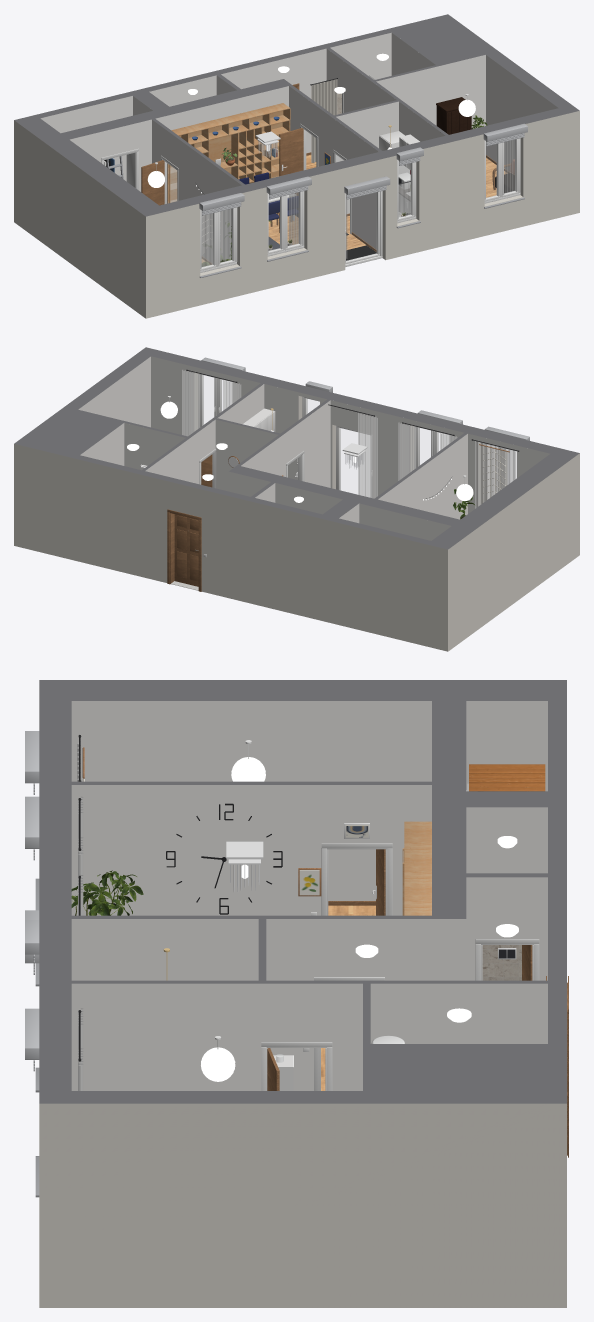
File: flat.glb
3 views of the same model, one above another, from view 1: azimuth 30°, elevation 25°; view 2: azimuth 150°, elevation 25°; view 3: azimuth 270°, elevation 25° (orthographic). The views are drawn at different scales.
Parts seen in each view (by area): view 1: walls_ext, walls_top, walls_study, walls_living, walls_bedroom, wall_unit, walls_hall, walls_bath, walls_kitchen, walls_closet, window_win_bedroom, window_win_living (+17 smaller); view 2: walls_ext, walls_top, walls_living, walls_study, walls_bedroom, walls_hall, walls_bath, walls_kitchen, curtain_bedroom, walls_closet, leaf_door_front, curtain_garden_l (+12 smaller); view 3: walls_ext, walls_top, walls_living, walls_bedroom, walls_study, walls_hall, walls_kitchen, walls_bath, walls_closet, walls_wc, wall_unit, loft_frame (+11 smaller).
Boxes of the visible parts, x1,y1,x2,y2 form: walls_ext: (14,111,579,318); walls_top: (14,14,579,216); walls_study: (376,55,558,171); walls_living: (155,86,378,249); walls_bedroom: (70,119,241,262); wall_unit: (167,103,290,203); walls_hall: (221,48,396,153); walls_bath: (330,32,435,94); walls_kitchen: (336,101,445,213); walls_closet: (40,96,152,181); window_win_bedroom: (199,193,244,277); window_win_living: (266,176,311,261); walls_ext: (14,372,579,651); walls_top: (14,347,579,549); walls_living: (241,400,463,498); walls_study: (78,356,260,435); walls_bedroom: (378,433,549,519); walls_hall: (145,419,277,496); walls_bath: (80,423,185,469); walls_kitchen: (217,384,326,479); curtain_bedroom: (475,441,516,508); walls_closet: (339,503,451,540); leaf_door_front: (174,514,198,586); curtain_garden_l: (358,412,377,498); walls_ext: (39,1103,566,1307); walls_top: (39,680,566,1103); walls_living: (71,785,431,915); walls_bedroom: (71,701,431,900); walls_study: (71,983,362,1090); walls_hall: (266,877,547,1090); walls_kitchen: (71,919,258,980); walls_bath: (370,983,547,1043); walls_closet: (466,701,547,791); walls_wc: (466,807,547,873); wall_unit: (402,821,431,915); loft_frame: (469,764,545,791).
Size of the model in its own units: 13.13 by 3.03 by 7.13.
93 materials, 41 textured.
